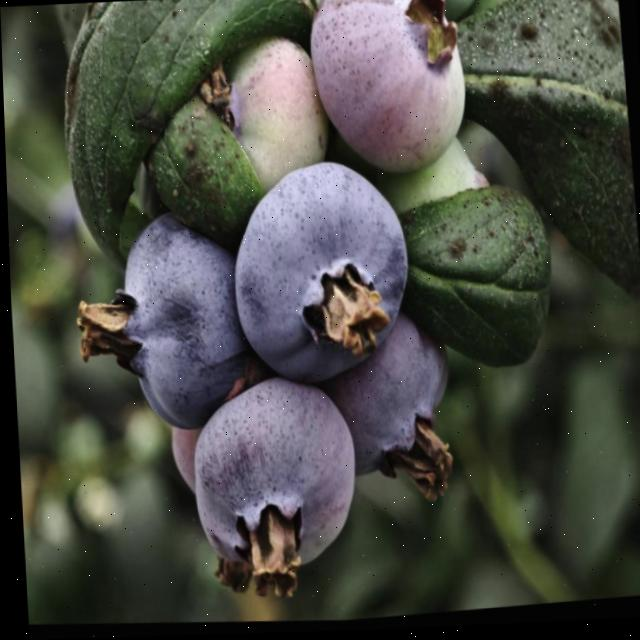RipeBlueBerry: (217, 149, 426, 401), (89, 197, 253, 444)
Semi-RipeBlueBerry: (172, 367, 371, 608), (298, 0, 482, 193)
